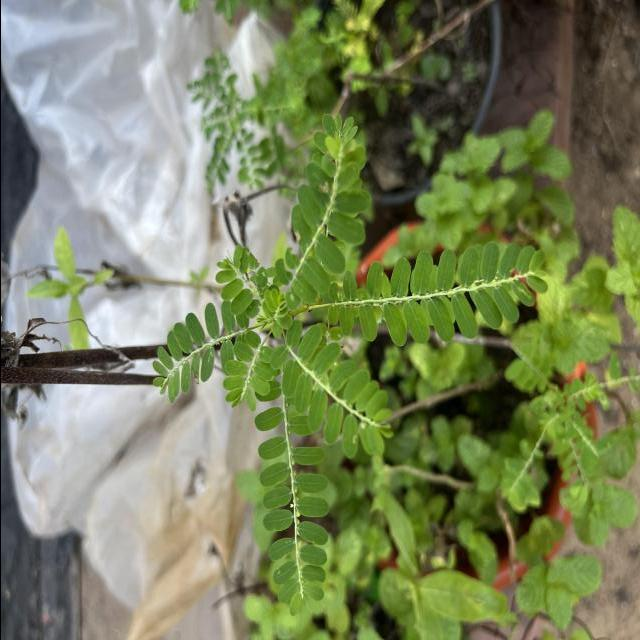Phyllanthus niruri: (322, 238, 551, 348), (250, 373, 329, 620), (270, 132, 372, 312), (266, 317, 394, 460), (148, 294, 252, 408), (220, 328, 272, 412), (211, 244, 266, 319)
